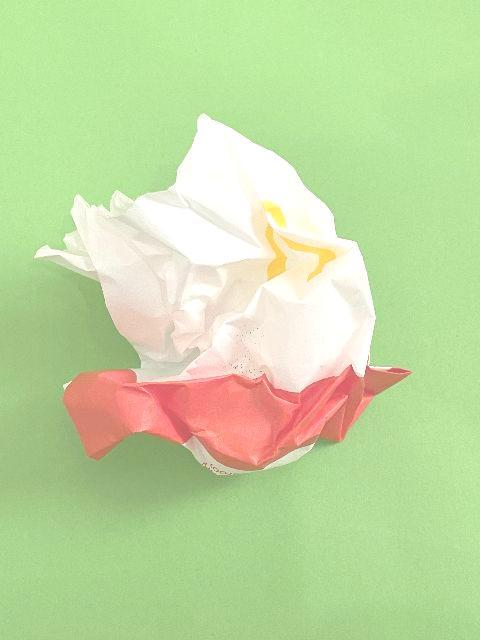paperbag: (34, 111, 412, 476)
